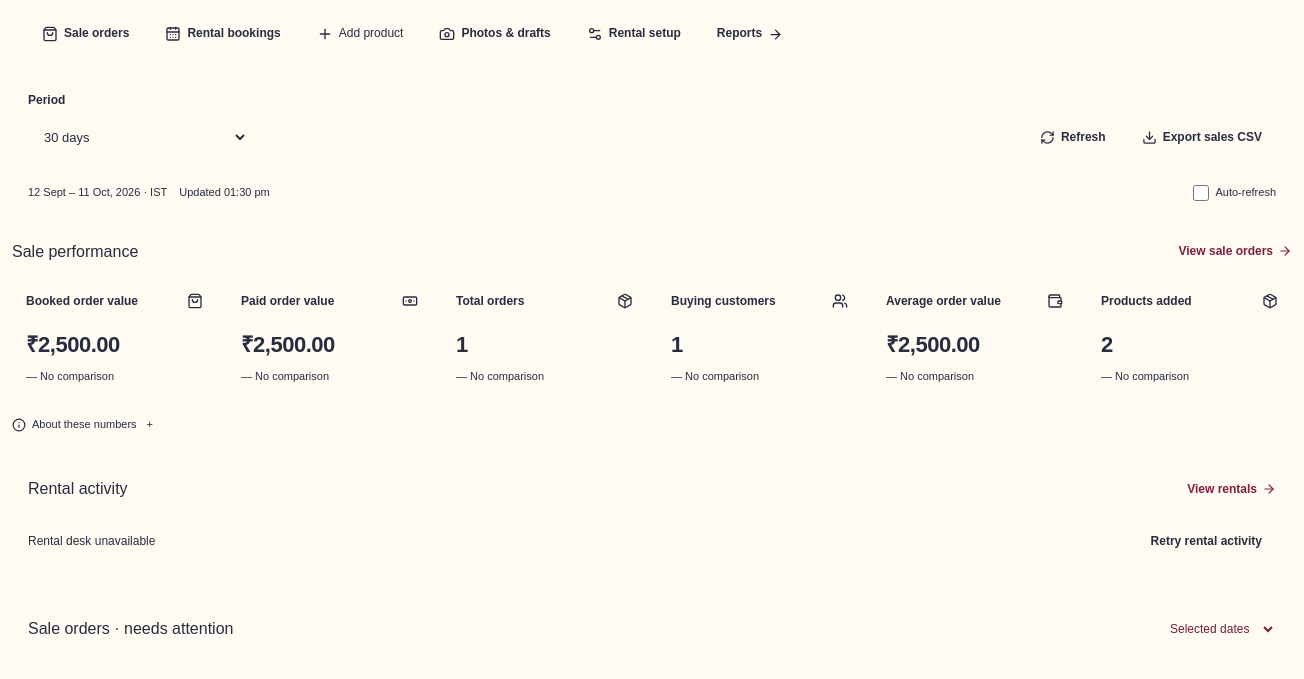
it: rental read failures stay within the rental panel and retry without hiding sale data or showing invented zeros
Expected: the message reads "Rental desk unavailable", [28, 534, 155, 548]
Expected: the text "Pickups today" is not shown
Step 1. Click the button "Retry rental activity" → (1206, 541), box [1137, 519, 1276, 563]
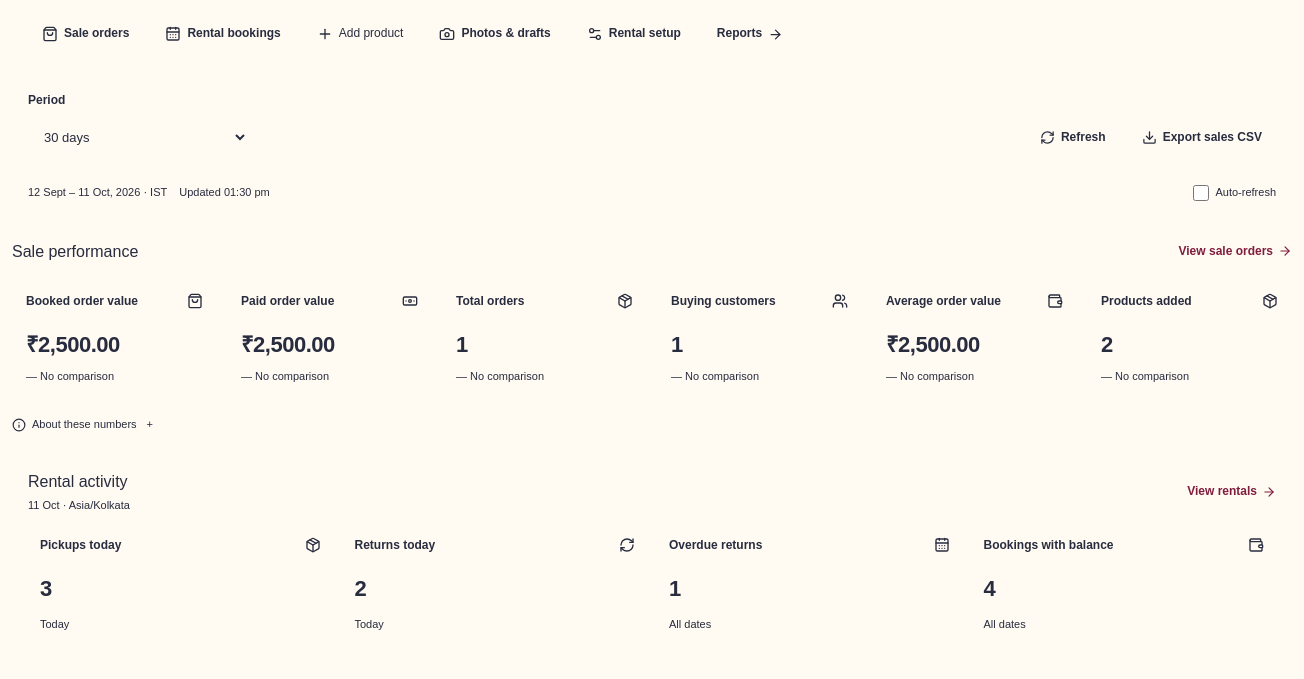
Expected: the text "Pickups today" is shown, [40, 537, 121, 554]
